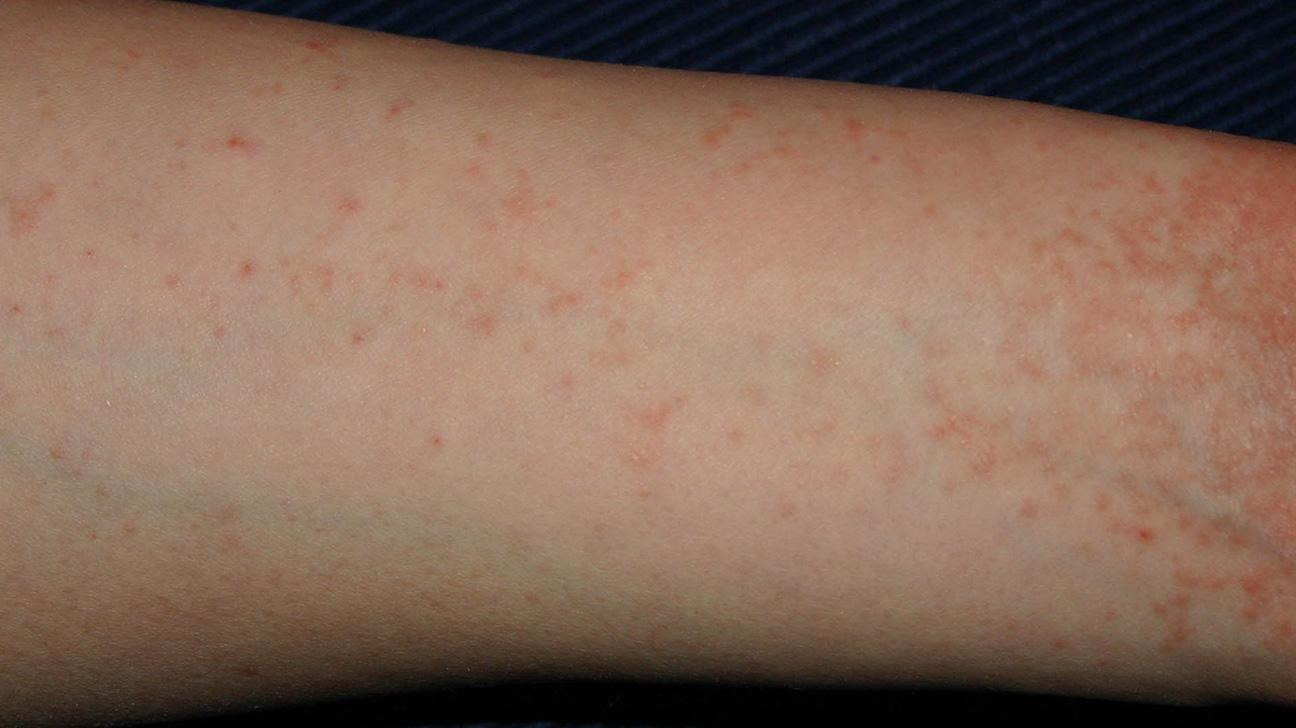Scabies: (0, 53, 556, 530), (336, 233, 558, 375), (13, 162, 176, 325), (203, 102, 288, 202), (373, 72, 438, 145)
